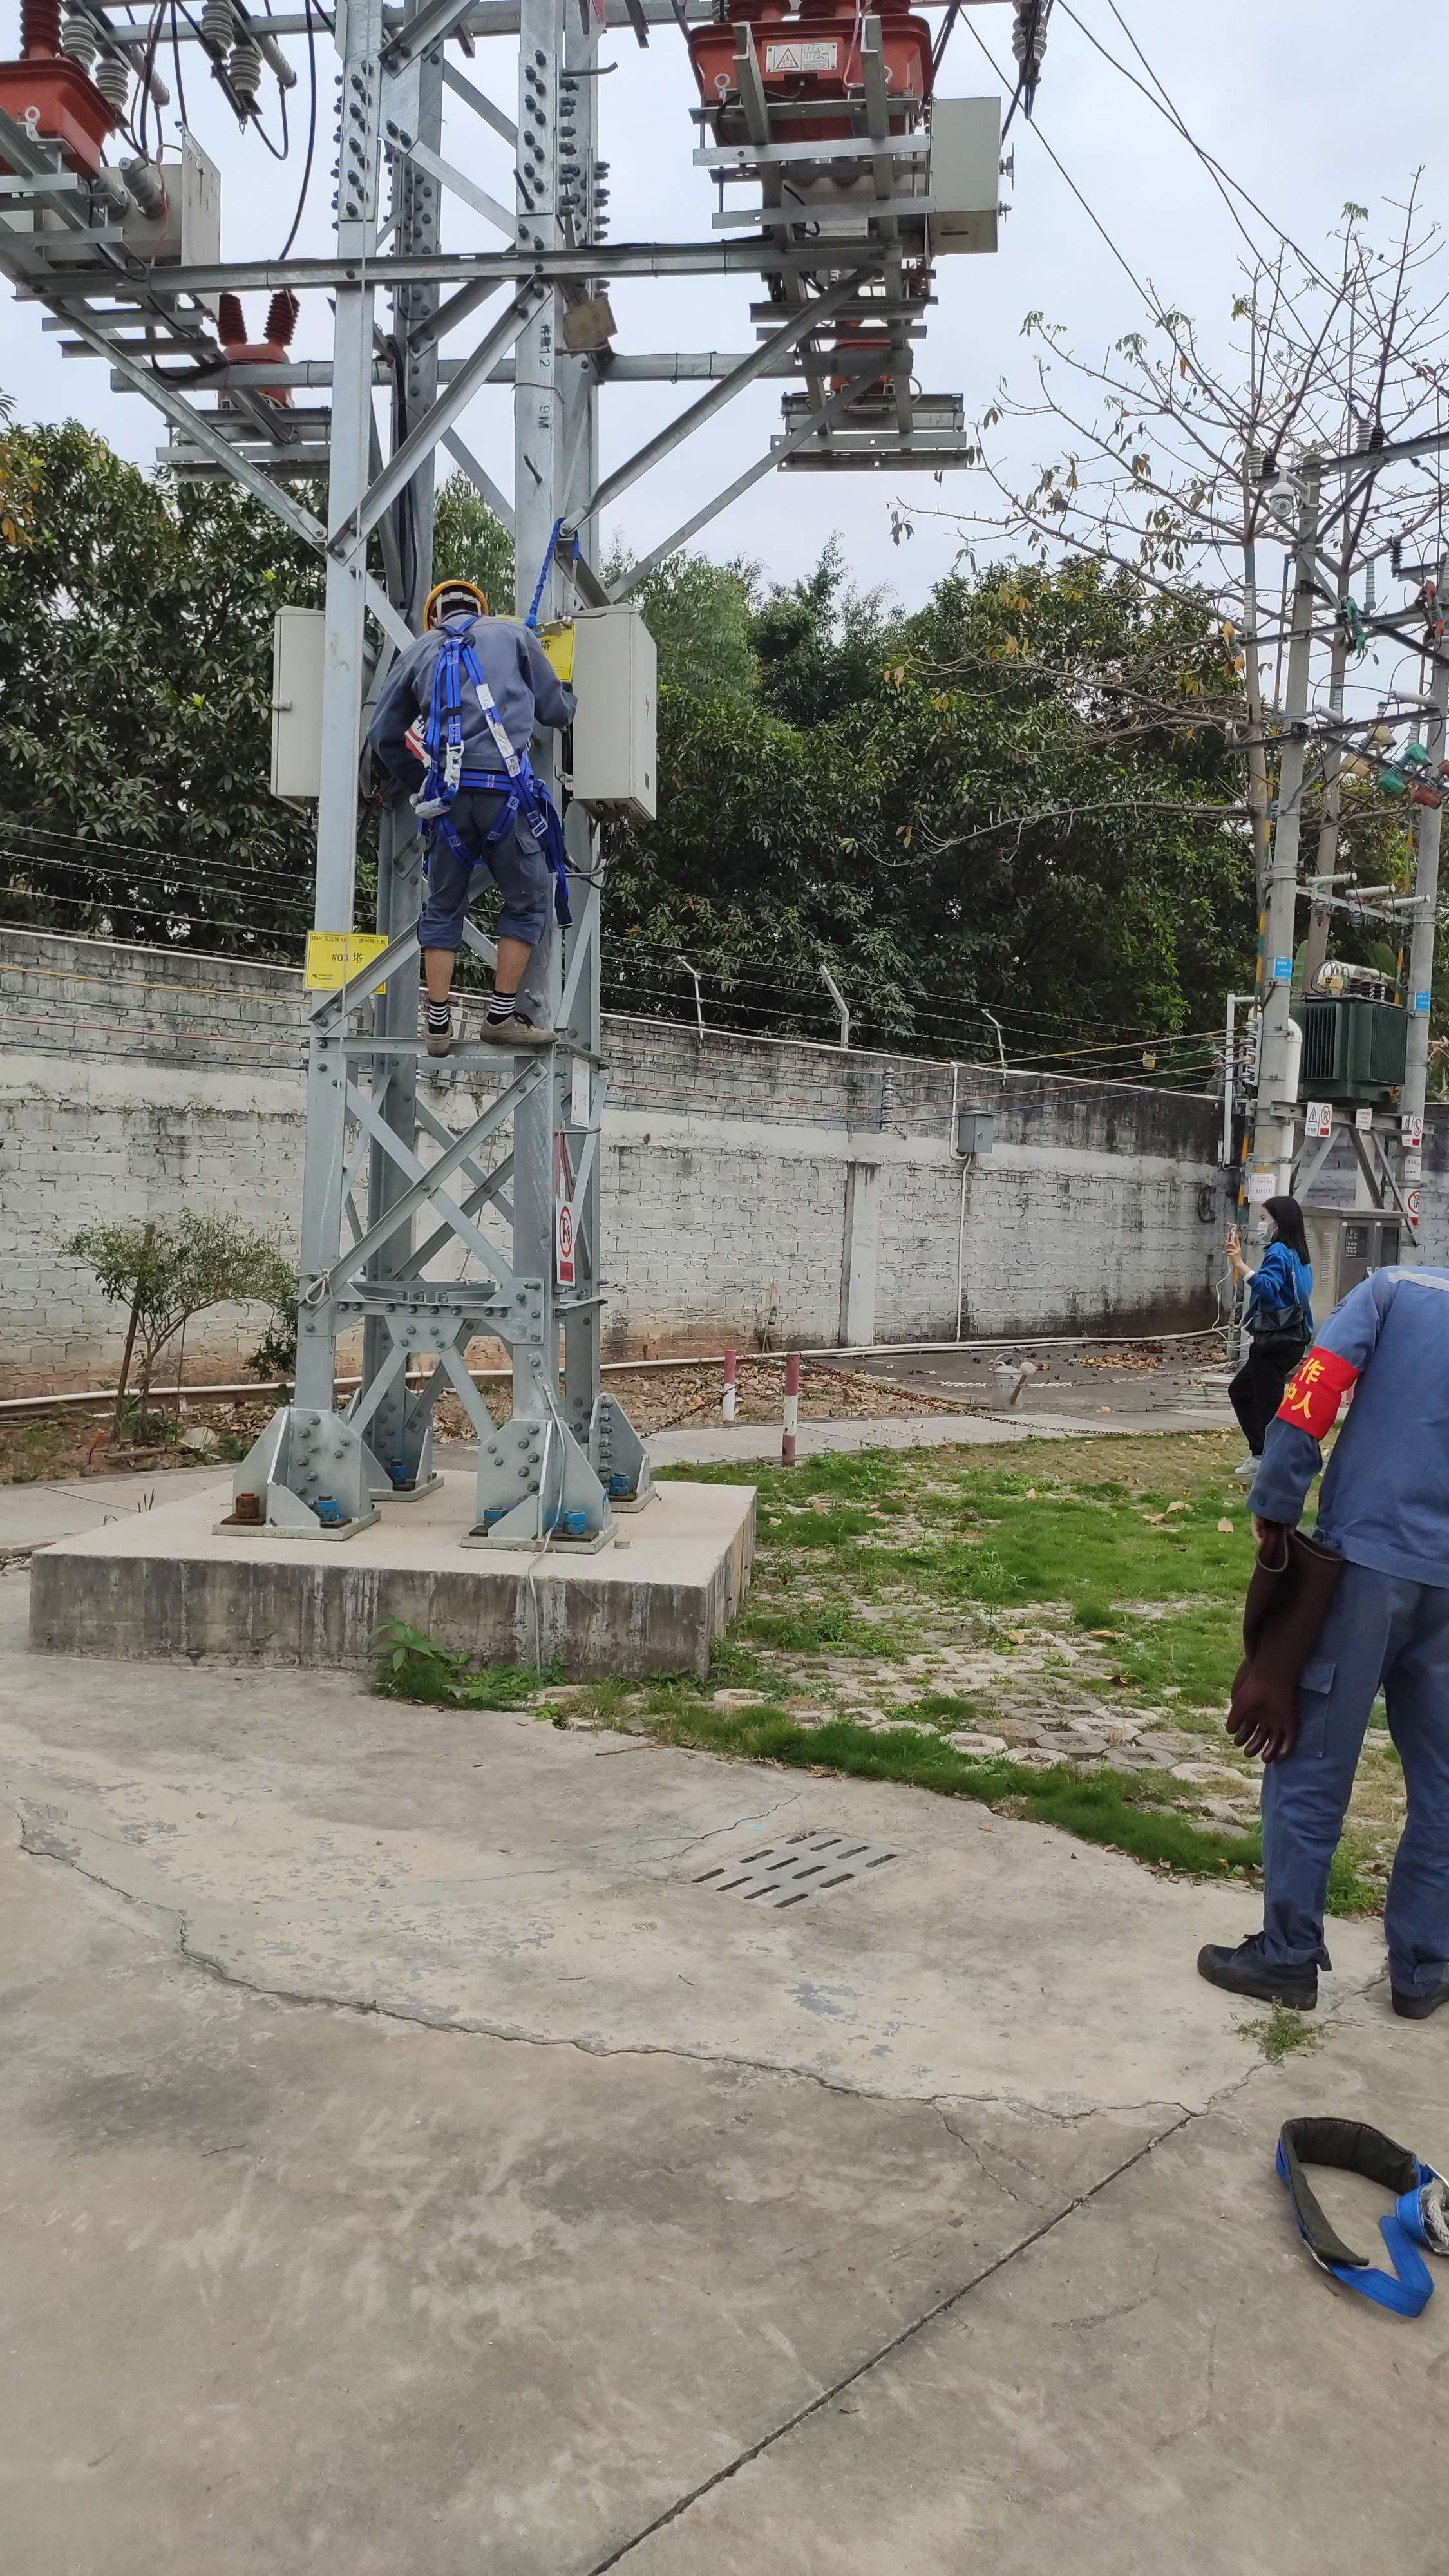downsuit: (1258, 1605, 1449, 1962), (410, 800, 552, 954)
upsuit: (1254, 1261, 1449, 1575), (364, 614, 579, 782)
wrongbottom: (412, 922, 540, 1030)
